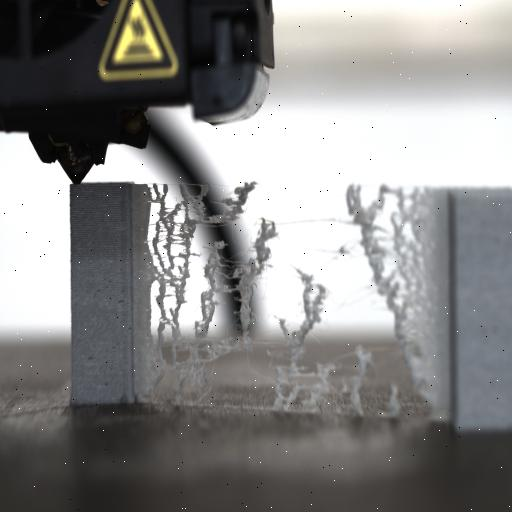stringing: (139, 178, 275, 398), (334, 181, 436, 415), (264, 255, 341, 409), (285, 332, 373, 418), (149, 186, 195, 348), (344, 180, 398, 302), (173, 180, 255, 230), (145, 324, 175, 402), (252, 216, 278, 270), (388, 196, 414, 244)
